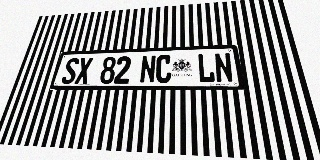2: (114, 56, 131, 84)
8: (99, 56, 117, 84)
C: (155, 55, 172, 83)
L: (197, 53, 215, 83)
N: (214, 53, 234, 83), (139, 55, 156, 83)
S: (60, 58, 80, 84)
X: (74, 57, 93, 84)
